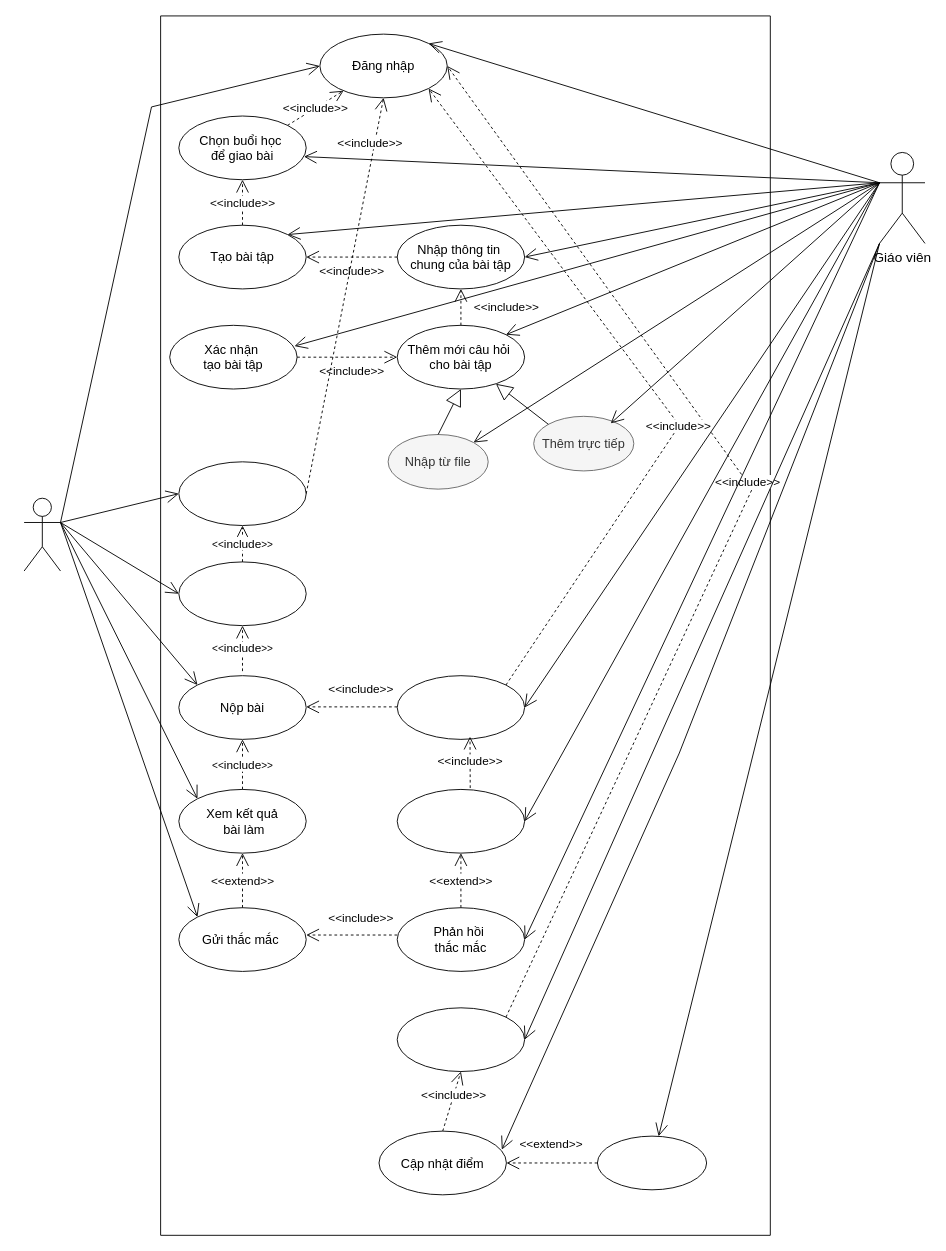
Some shapes in this 946 by 1251 pixel diagram are drawn without their labels. The shapes that lost their labels are listed below. From the top down, each one's box as (x1, y1, x2, y2) in pixels, then its label:
(178, 461, 306, 526): Xem danh sách bài tập
(23, 497, 61, 571): Học viên
(178, 561, 306, 626): Làm bài
(396, 675, 525, 739): Chấm bài
(396, 789, 525, 853): Chỉnh sửa bài đã chấm
(396, 1007, 525, 1072): Chọn lớp học quản lý điểm
(597, 1135, 707, 1190): Xem lịch sử cập nhật điểm
